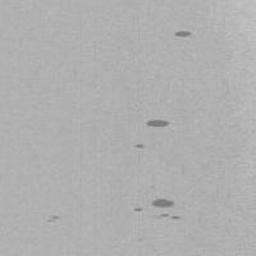Oil spot: (151, 197, 183, 221), (146, 118, 170, 128), (173, 29, 192, 38), (46, 214, 61, 223), (133, 207, 145, 212), (134, 143, 145, 148)
